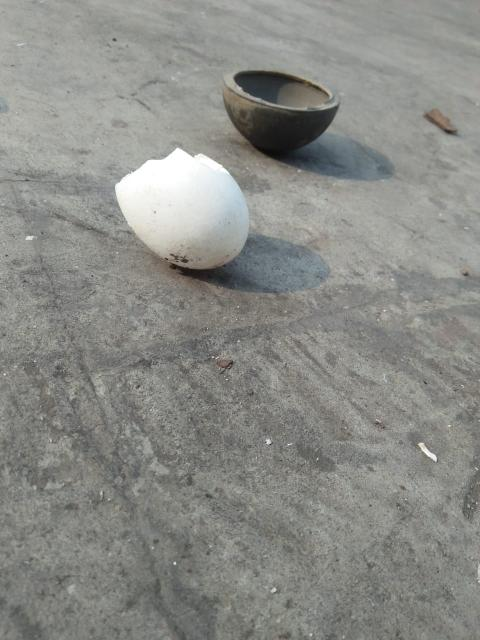Roto: (114, 146, 250, 271)
